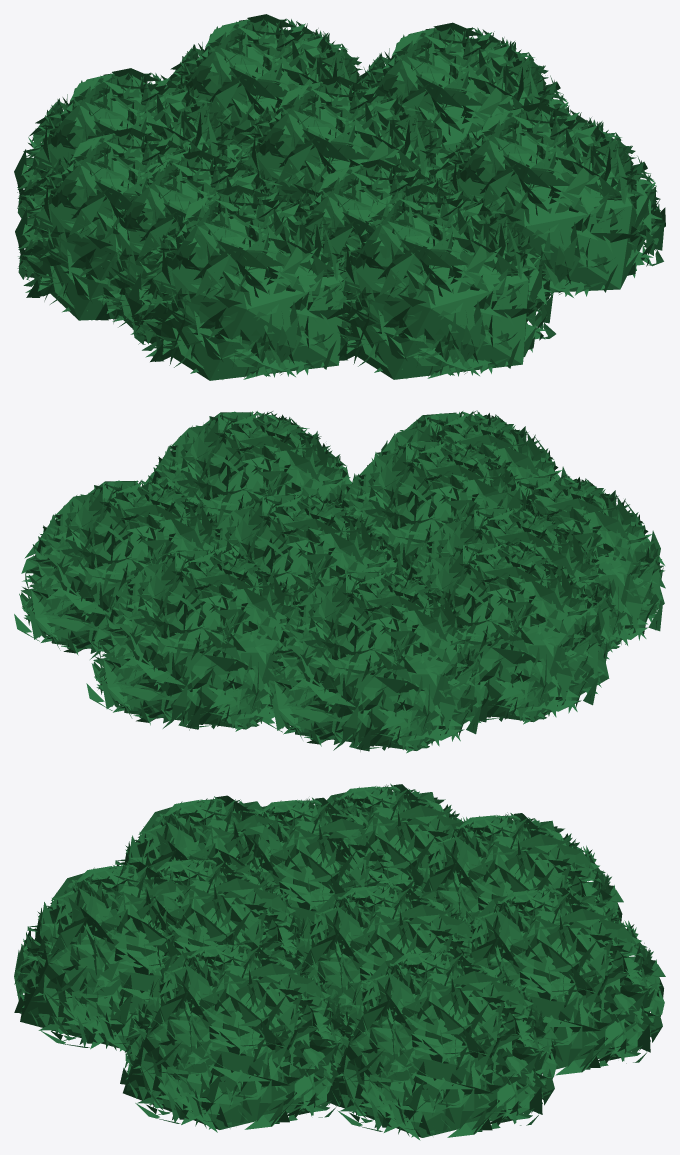
The picture shows the model from 3 angles, top to bottom: view 1: azimuth 30°, elevation 25°; view 2: azimuth 150°, elevation 25°; view 3: azimuth 270°, elevation 25°; orthographic projection. The views are drawn at different scales.
Visible parts, largest first — view 1: Icosphere.008, Icosphere.007, Icosphere.001, Icosphere.009, Icosphere.002, Icosphere, Icosphere.006, Icosphere.005, Icosphere.004, Icosphere.003; view 2: Icosphere.006, Icosphere.005, Icosphere.009, Icosphere, Icosphere.001, Icosphere.008, Icosphere.003, Icosphere.002, Icosphere.004, Icosphere.007; view 3: Icosphere, Icosphere.001, Icosphere.005, Icosphere.007, Icosphere.006, Icosphere.002, Icosphere.004, Icosphere.003, Icosphere.009, Icosphere.008.
Boxes of the visible parts, x1,y1,x2,y2 form: Icosphere.008: (127, 185, 351, 380); Icosphere.007: (335, 184, 555, 379); Icosphere.001: (437, 103, 665, 297); Icosphere.009: (15, 128, 194, 321); Icosphere.002: (234, 76, 451, 202); Icosphere: (359, 22, 569, 176); Icosphere.006: (14, 68, 247, 226); Icosphere.005: (169, 14, 365, 155); Icosphere.004: (95, 150, 295, 342); Icosphere.003: (299, 159, 466, 337); Icosphere.006: (262, 571, 488, 753); Icosphere.005: (86, 548, 302, 731); Icosphere.009: (413, 541, 609, 724); Icosphere: (14, 479, 222, 659); Icosphere.001: (143, 411, 355, 524); Icosphere.008: (473, 474, 665, 651); Icosphere.003: (336, 440, 517, 573); Icosphere.002: (204, 494, 404, 604); Icosphere.004: (404, 507, 620, 662); Icosphere.007: (358, 410, 567, 483); Icosphere: (329, 949, 557, 1140); Icosphere.001: (120, 942, 348, 1132); Icosphere.005: (459, 887, 665, 1075); Icosphere.007: (14, 861, 197, 1052); Icosphere.006: (413, 812, 623, 925); Icosphere.002: (288, 882, 479, 1018); Icosphere.004: (237, 797, 389, 930); Icosphere.003: (142, 857, 305, 976); Icosphere.009: (326, 783, 467, 890); Icosphere.008: (113, 795, 284, 894).
Size of the model in its own units: 1.61 by 0.3848 by 1.67.
